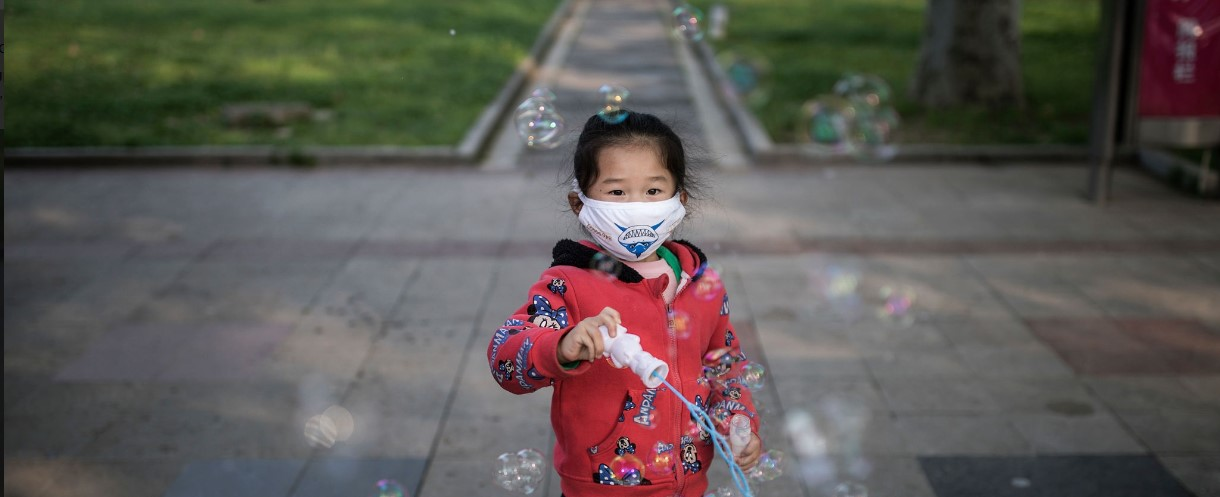face_with_mask: (573, 114, 689, 265)
